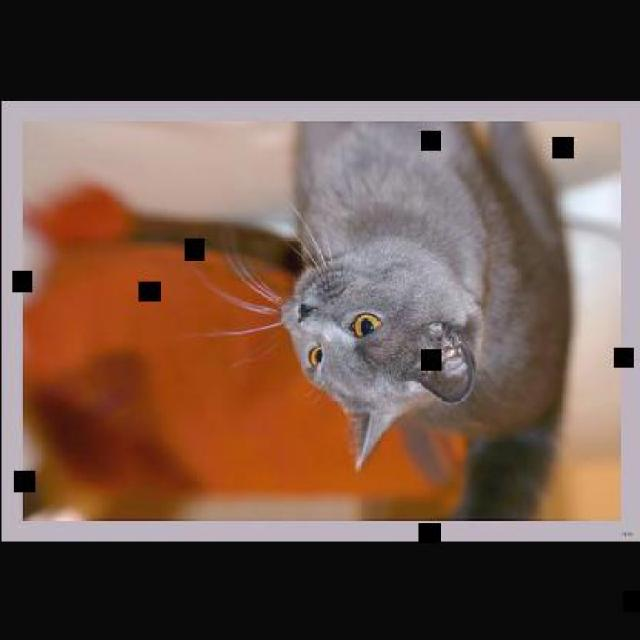unauthorized: (192, 120, 574, 518)
